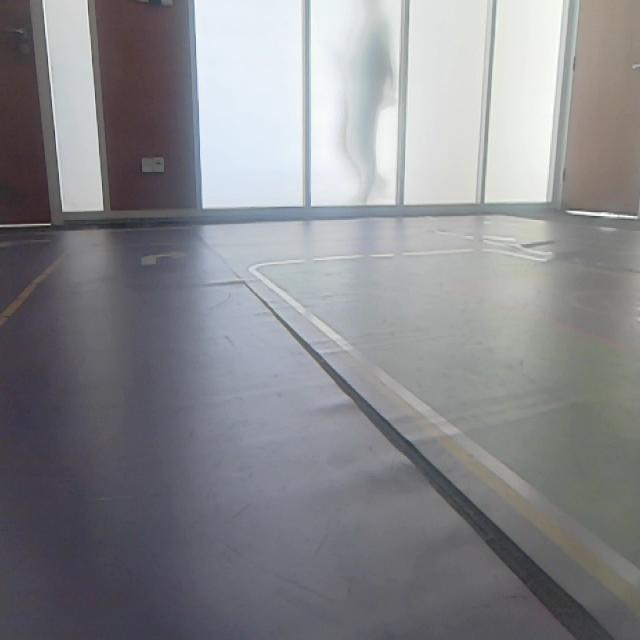left_lane: (0, 249, 69, 332)
right_lane: (255, 270, 640, 618)
